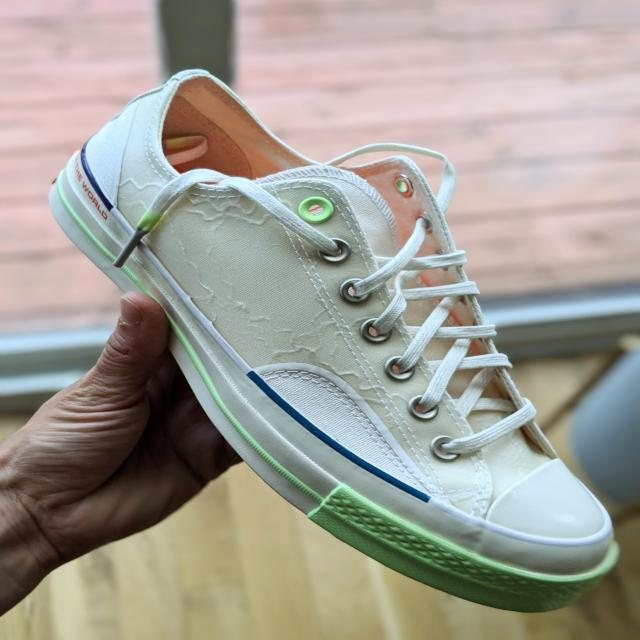shoe: (47, 51, 627, 619)
